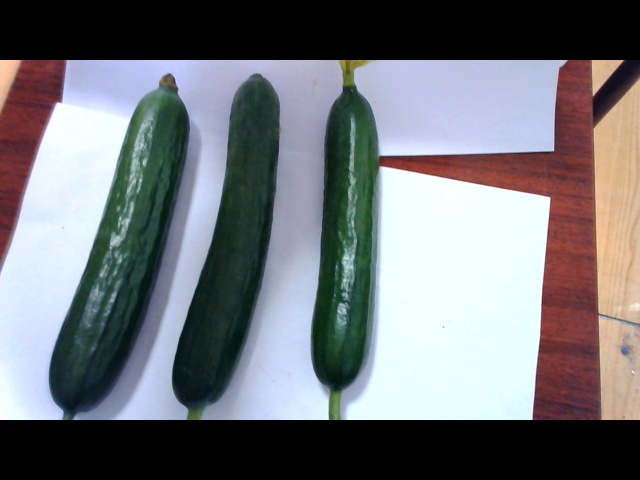cucumber: (171, 66, 301, 415), (50, 73, 173, 420), (309, 60, 384, 417)
